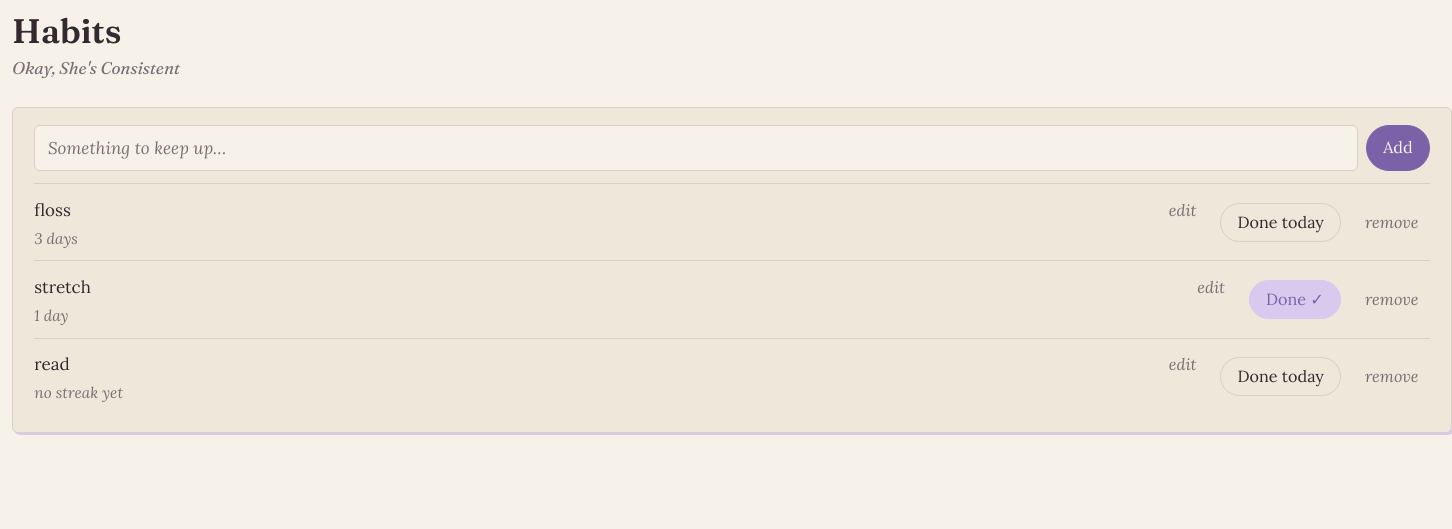
Test: adds a habit
Expected: the text "floss" is shown, [34,199,71,221]
Type "journal" into the field named "new habit".
click(696, 148); type("journal")  # box [34,125,1358,170]
Then press Enter
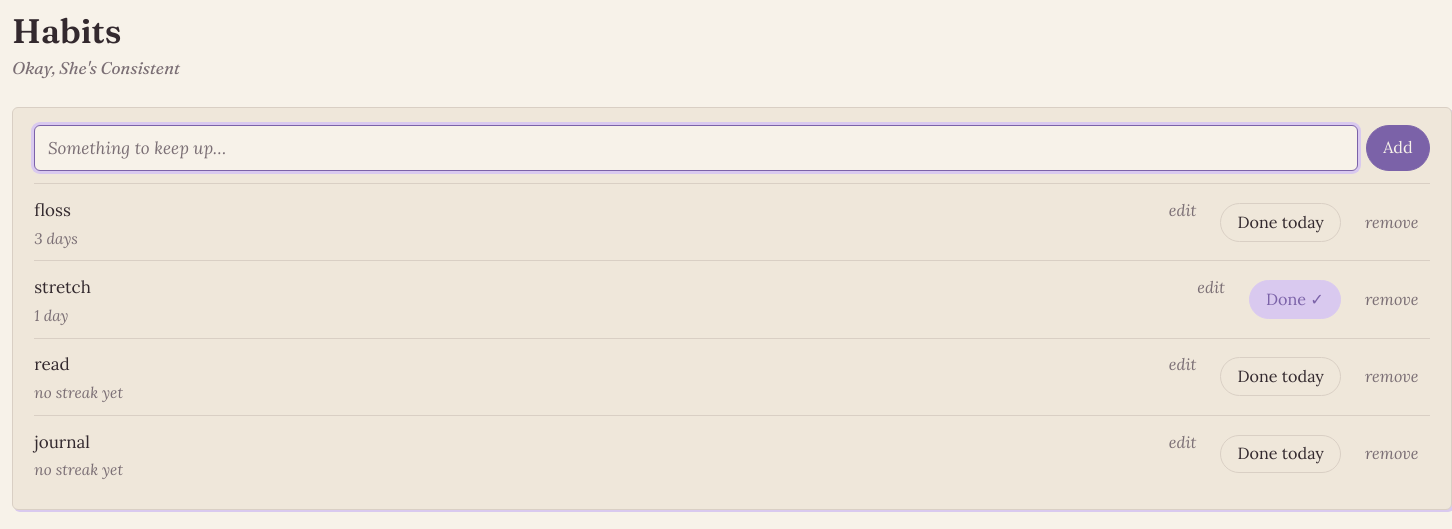
Expected: the text "journal" is shown, [34,431,90,453]
